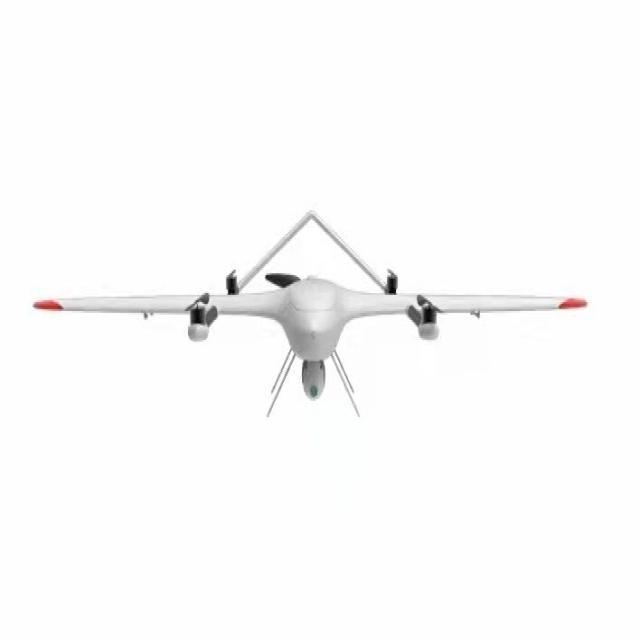iha: (26, 210, 589, 405)
